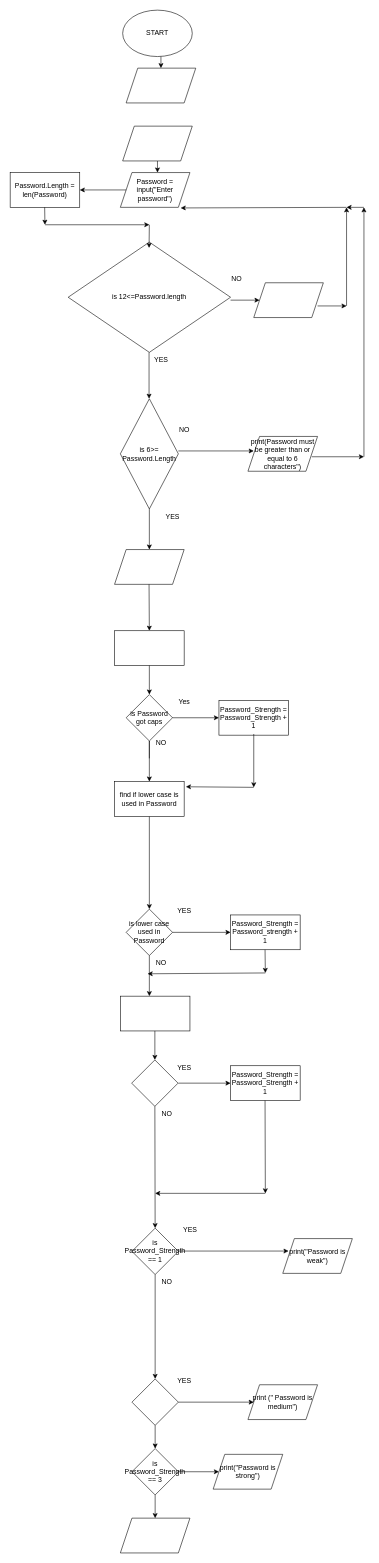
Some shapes in this 379 by 1563 pixel diagram are drawn without their labels. The centre of each missing label's shape, as x and y in pixels:
find if caps are used in Password: (x=149, y=648)
find if password has numbers: (x=155, y=1013)
is numbers used in Password: (x=154, y=1082)
is Password_Strength == 2: (x=154, y=1401)
Password_Strength = 0: (x=157, y=143)
Password_True = 0: (x=161, y=85)
print("Password is acceptable"): (x=149, y=566)
print("Password must be less than or equal to 12 characters"): (x=288, y=300)
